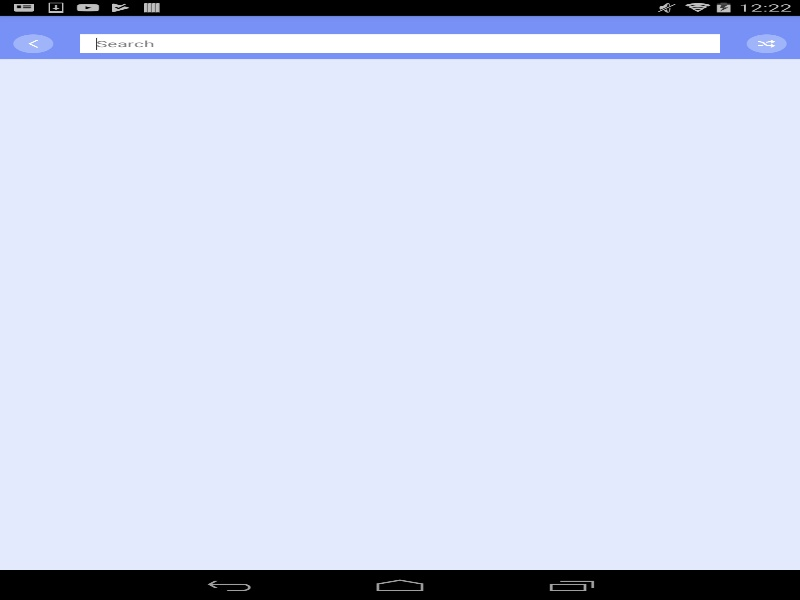Input: (80, 34, 720, 53)
